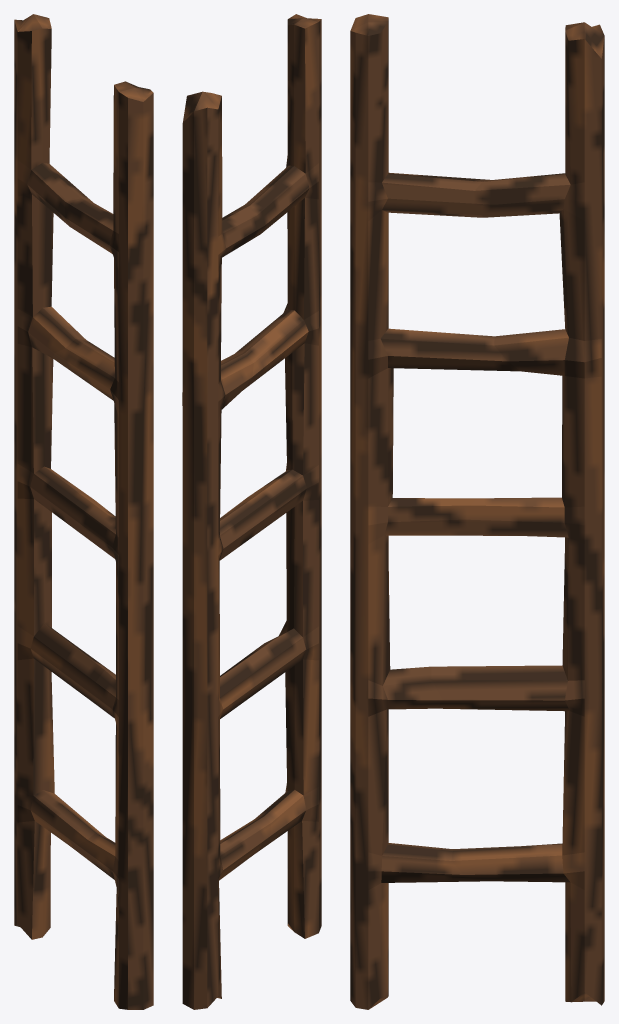
File: Building_Ladder.fbx
3 views of the same model, side by side, from view 1: azimuth 30°, elevation 25°; view 2: azimuth 150°, elevation 25°; view 3: azimuth 270°, elevation 25° (orthographic). The views are drawn at different scales.
Visible parts, largest first — view 1: Cube.024; view 2: Cube.024; view 3: Cube.024.
Boxes of the visible parts, x1,y1,x2,y2 form: Cube.024: [14, 14, 153, 1009]; Cube.024: [182, 14, 321, 1009]; Cube.024: [350, 14, 604, 1009].
Size of the model in its own units: 3.74 by 90 by 21.16.
